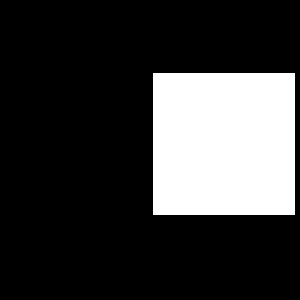circle: (153, 73, 295, 215)
